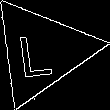L_N: (21, 24, 62, 78)
